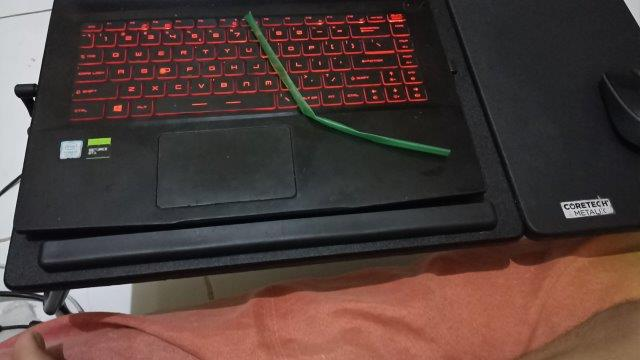sedotan: (247, 16, 449, 155)
